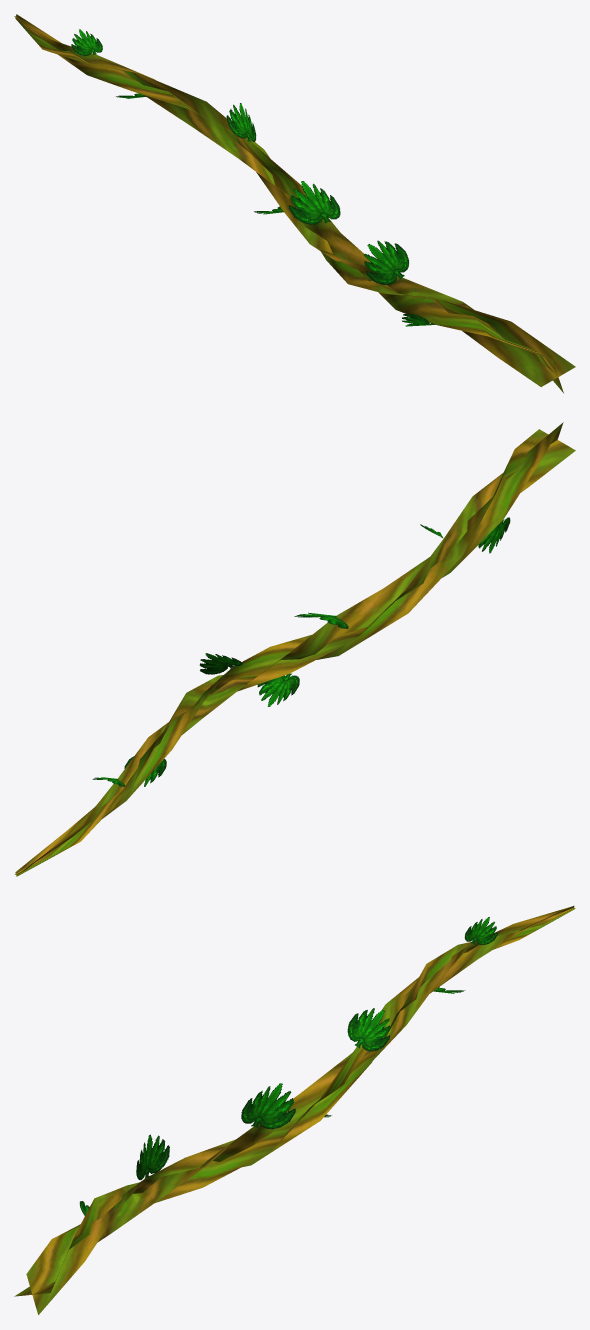
Rendered from EKH_GROTTO_ANIM_GR_TRIST_VINE_001__AI.fbx.
3 views of the same model, one above another, from view 1: azimuth 30°, elevation 25°; view 2: azimuth 150°, elevation 25°; view 3: azimuth 330°, elevation 25° (orthographic). The views are drawn at different scales.
Visible parts, largest first — view 1: EKH_GROTTO_ANIM_GR_TRIST_VINE_001__AI; view 2: EKH_GROTTO_ANIM_GR_TRIST_VINE_001__AI; view 3: EKH_GROTTO_ANIM_GR_TRIST_VINE_001__AI.
Part boxes in pixels (<box>): EKH_GROTTO_ANIM_GR_TRIST_VINE_001__AI: <box>14,14,575,393</box>; EKH_GROTTO_ANIM_GR_TRIST_VINE_001__AI: <box>14,422,575,876</box>; EKH_GROTTO_ANIM_GR_TRIST_VINE_001__AI: <box>14,906,575,1314</box>.
Size of the model in its own units: 3165 by 3136 by 36109.
Materials: 2 (2 with a texture image).
